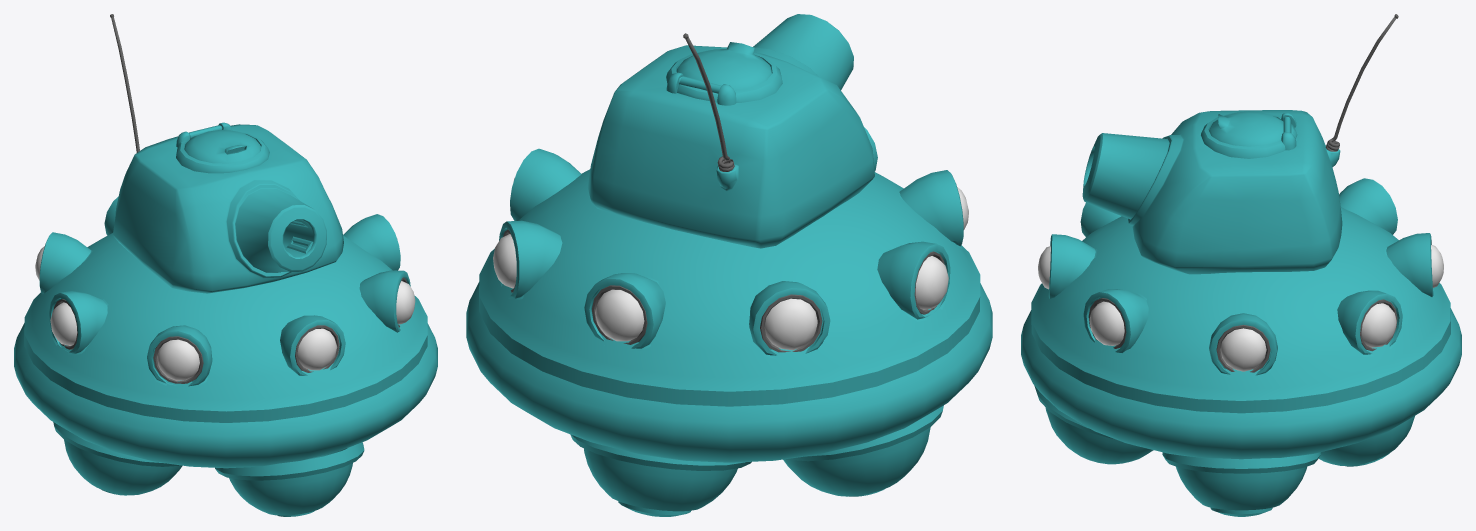
The model's file is tank4.glb.
3 renders of one model, left to right at view 1: azimuth 30°, elevation 25°; view 2: azimuth 150°, elevation 25°; view 3: azimuth 270°, elevation 25°, orthographic. The views are drawn at different scales.
Visible parts, largest first — view 1: TankChassis, TankTurret; view 2: TankChassis, TankTurret; view 3: TankChassis, TankTurret.
Boxes of the visible parts, x1,y1,x2,y2 form: TankChassis: (14,196,437,516); TankTurret: (110,14,343,293); TankChassis: (466,127,992,516); TankTurret: (587,14,874,248); TankChassis: (1021,178,1461,516); TankTurret: (1082,14,1398,274).
Size of the model in its own units: 2.79 by 2.95 by 2.77.
